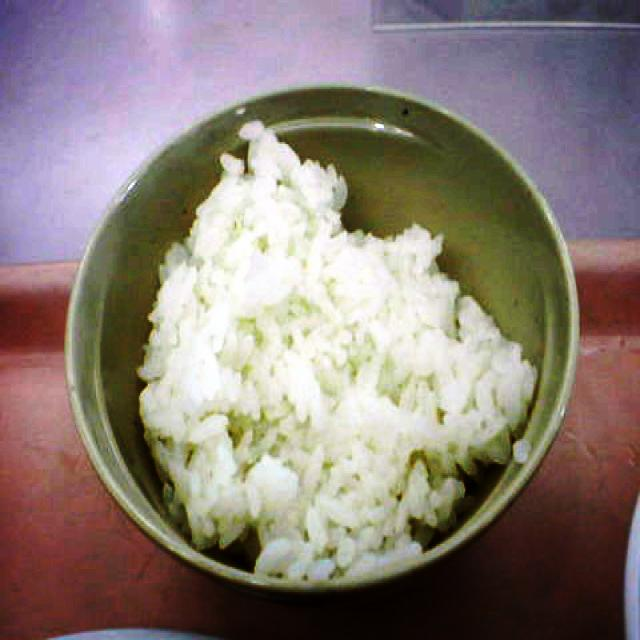rice: (137, 121, 539, 583)
